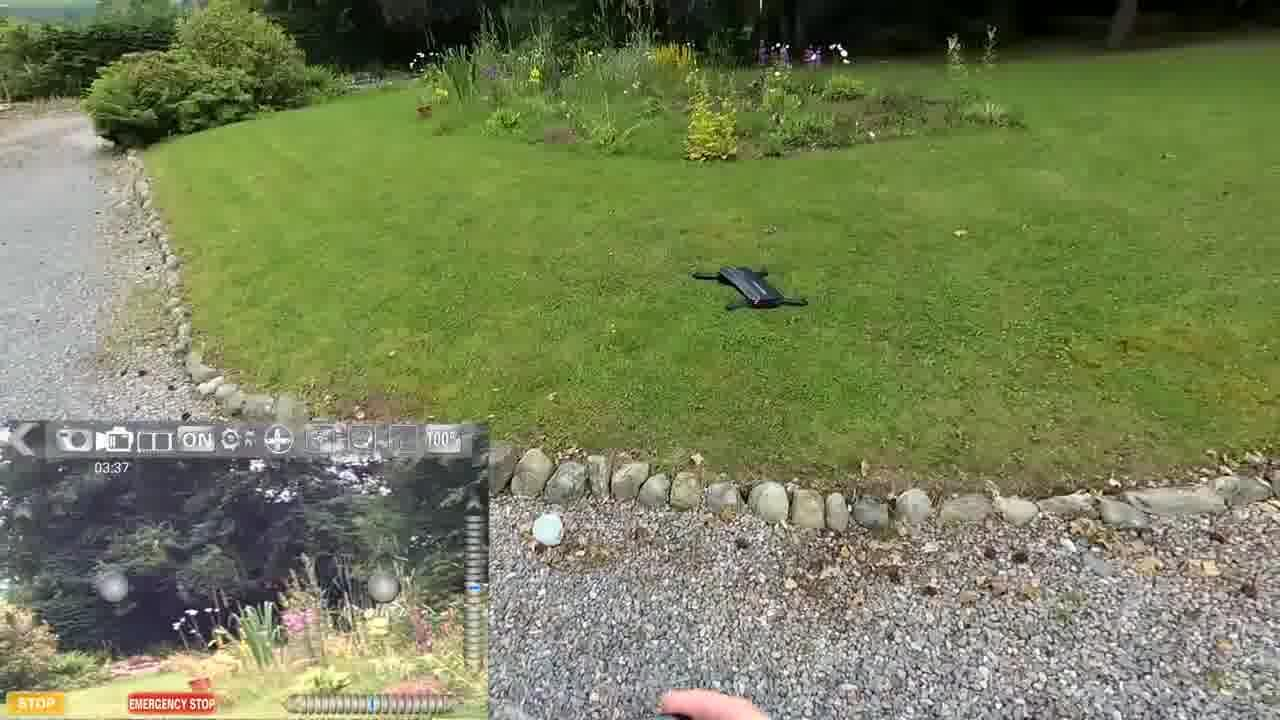drone: (681, 239, 818, 320)
